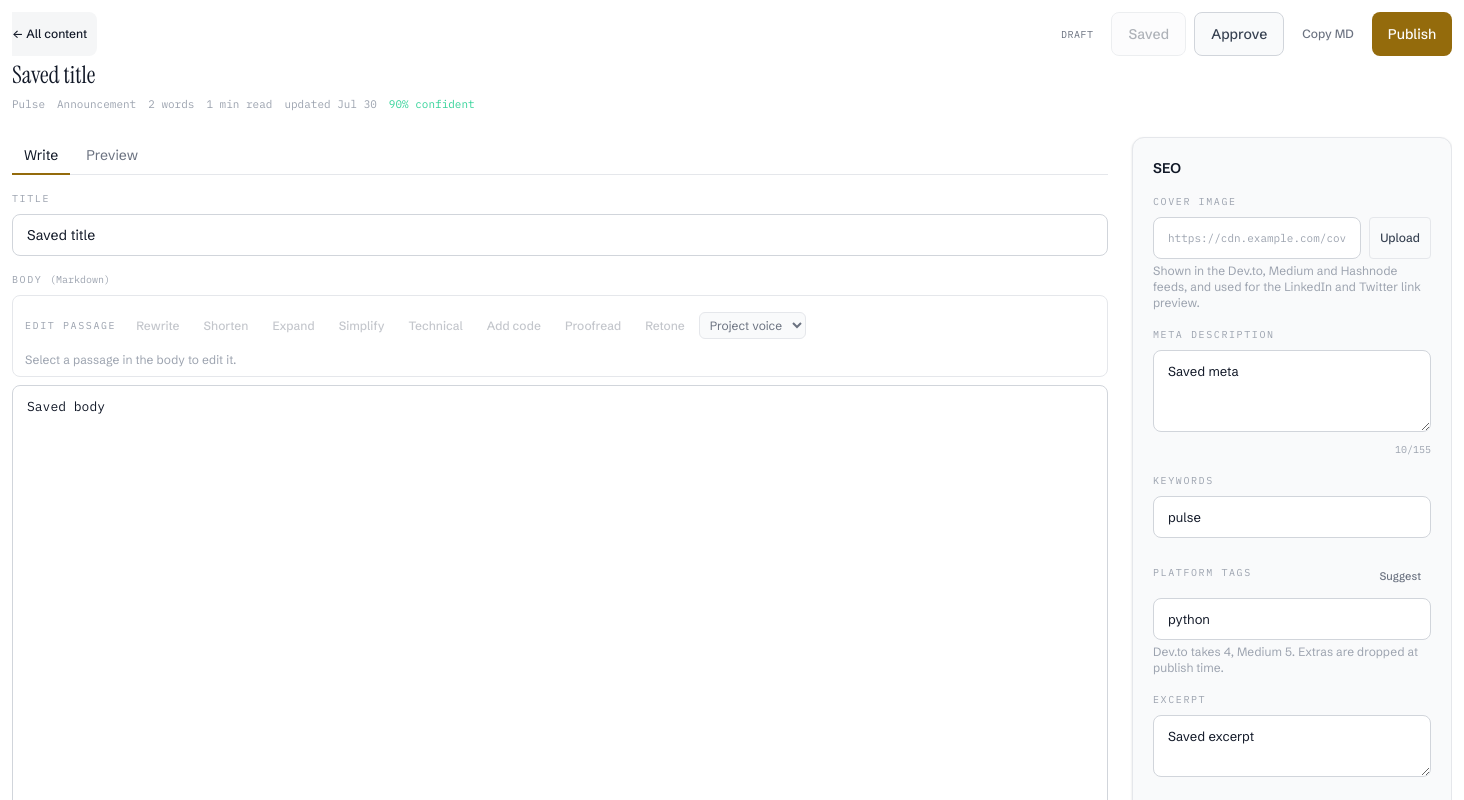
Scenario: the save affordance › is inert until something changes
This screenshot has width=1464, height=800.
Expected: the button "Saved" is disabled, [1111,12,1186,56]
Type "!" into the field labelled "Title" at coordinates (560, 234), box [12,214,1108,256]
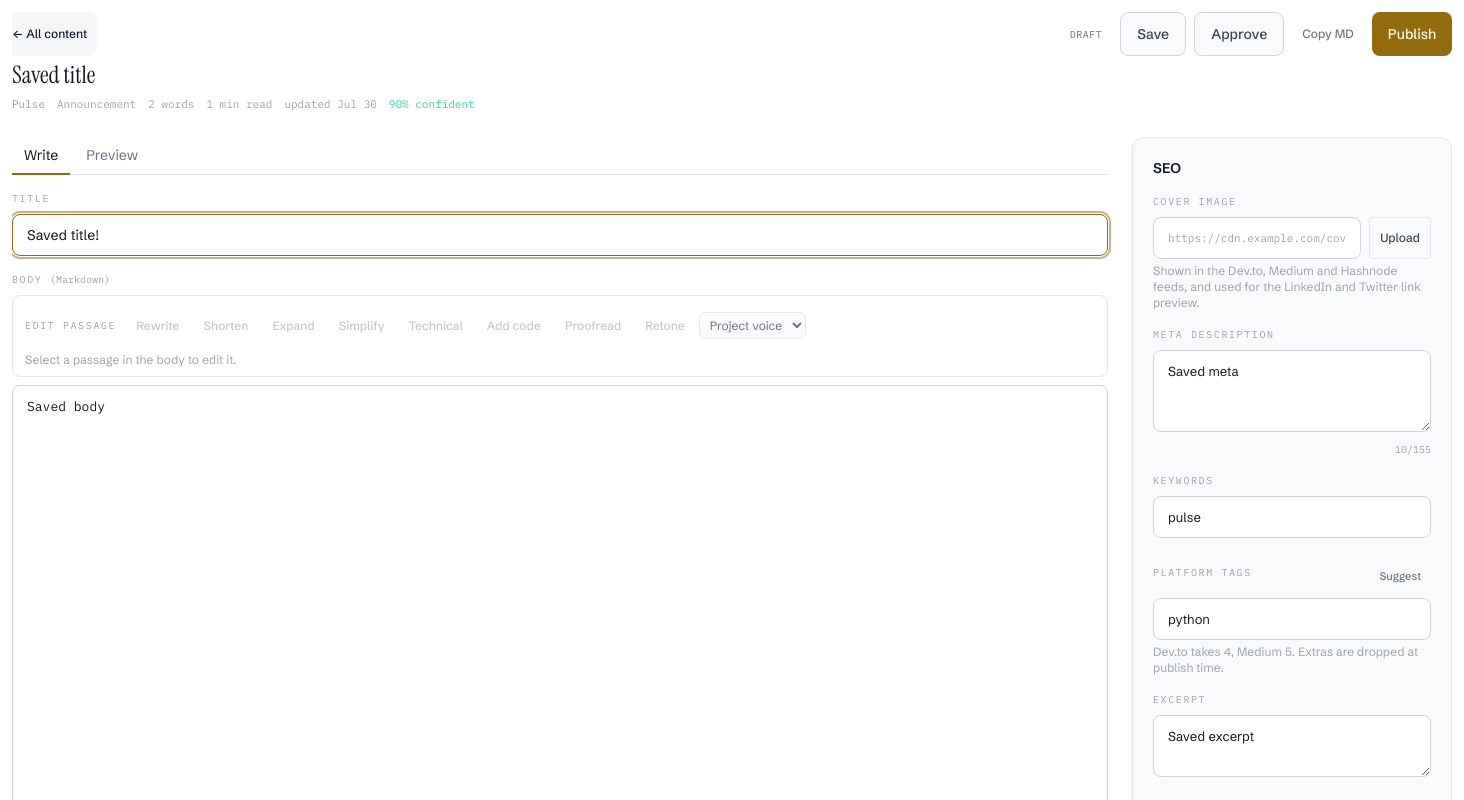
Now the button "Save" is enabled, box [1120,12,1186,56]
